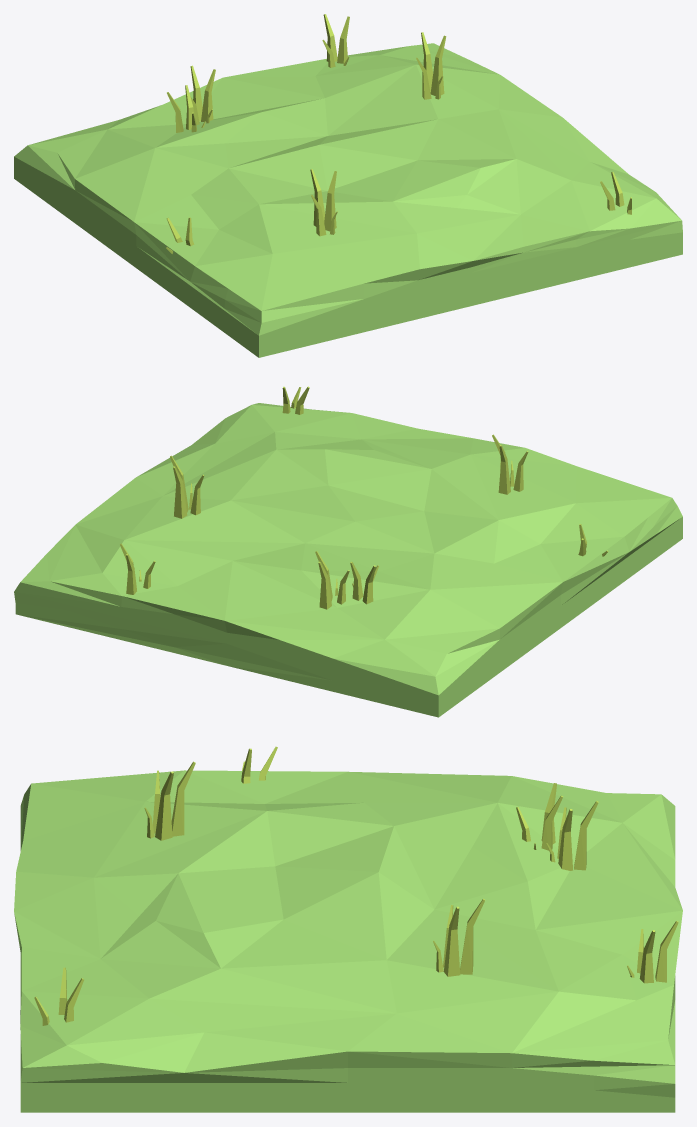
The model's file is tile_plains.fbx.
3 views of the same model, one above another, from view 1: azimuth 30°, elevation 25°; view 2: azimuth 150°, elevation 25°; view 3: azimuth 270°, elevation 25° (orthographic). The views are drawn at different scales.
Visible parts, largest first — view 1: ground; view 2: ground; view 3: ground.
Part boxes in pixels (x1=…): ground: x1=14, y1=14, x2=682, y2=357; ground: x1=14, y1=386, x2=682, y2=717; ground: x1=14, y1=746, x2=682, y2=1112.
Size of the model in its own units: 104 by 26.44 by 102.
